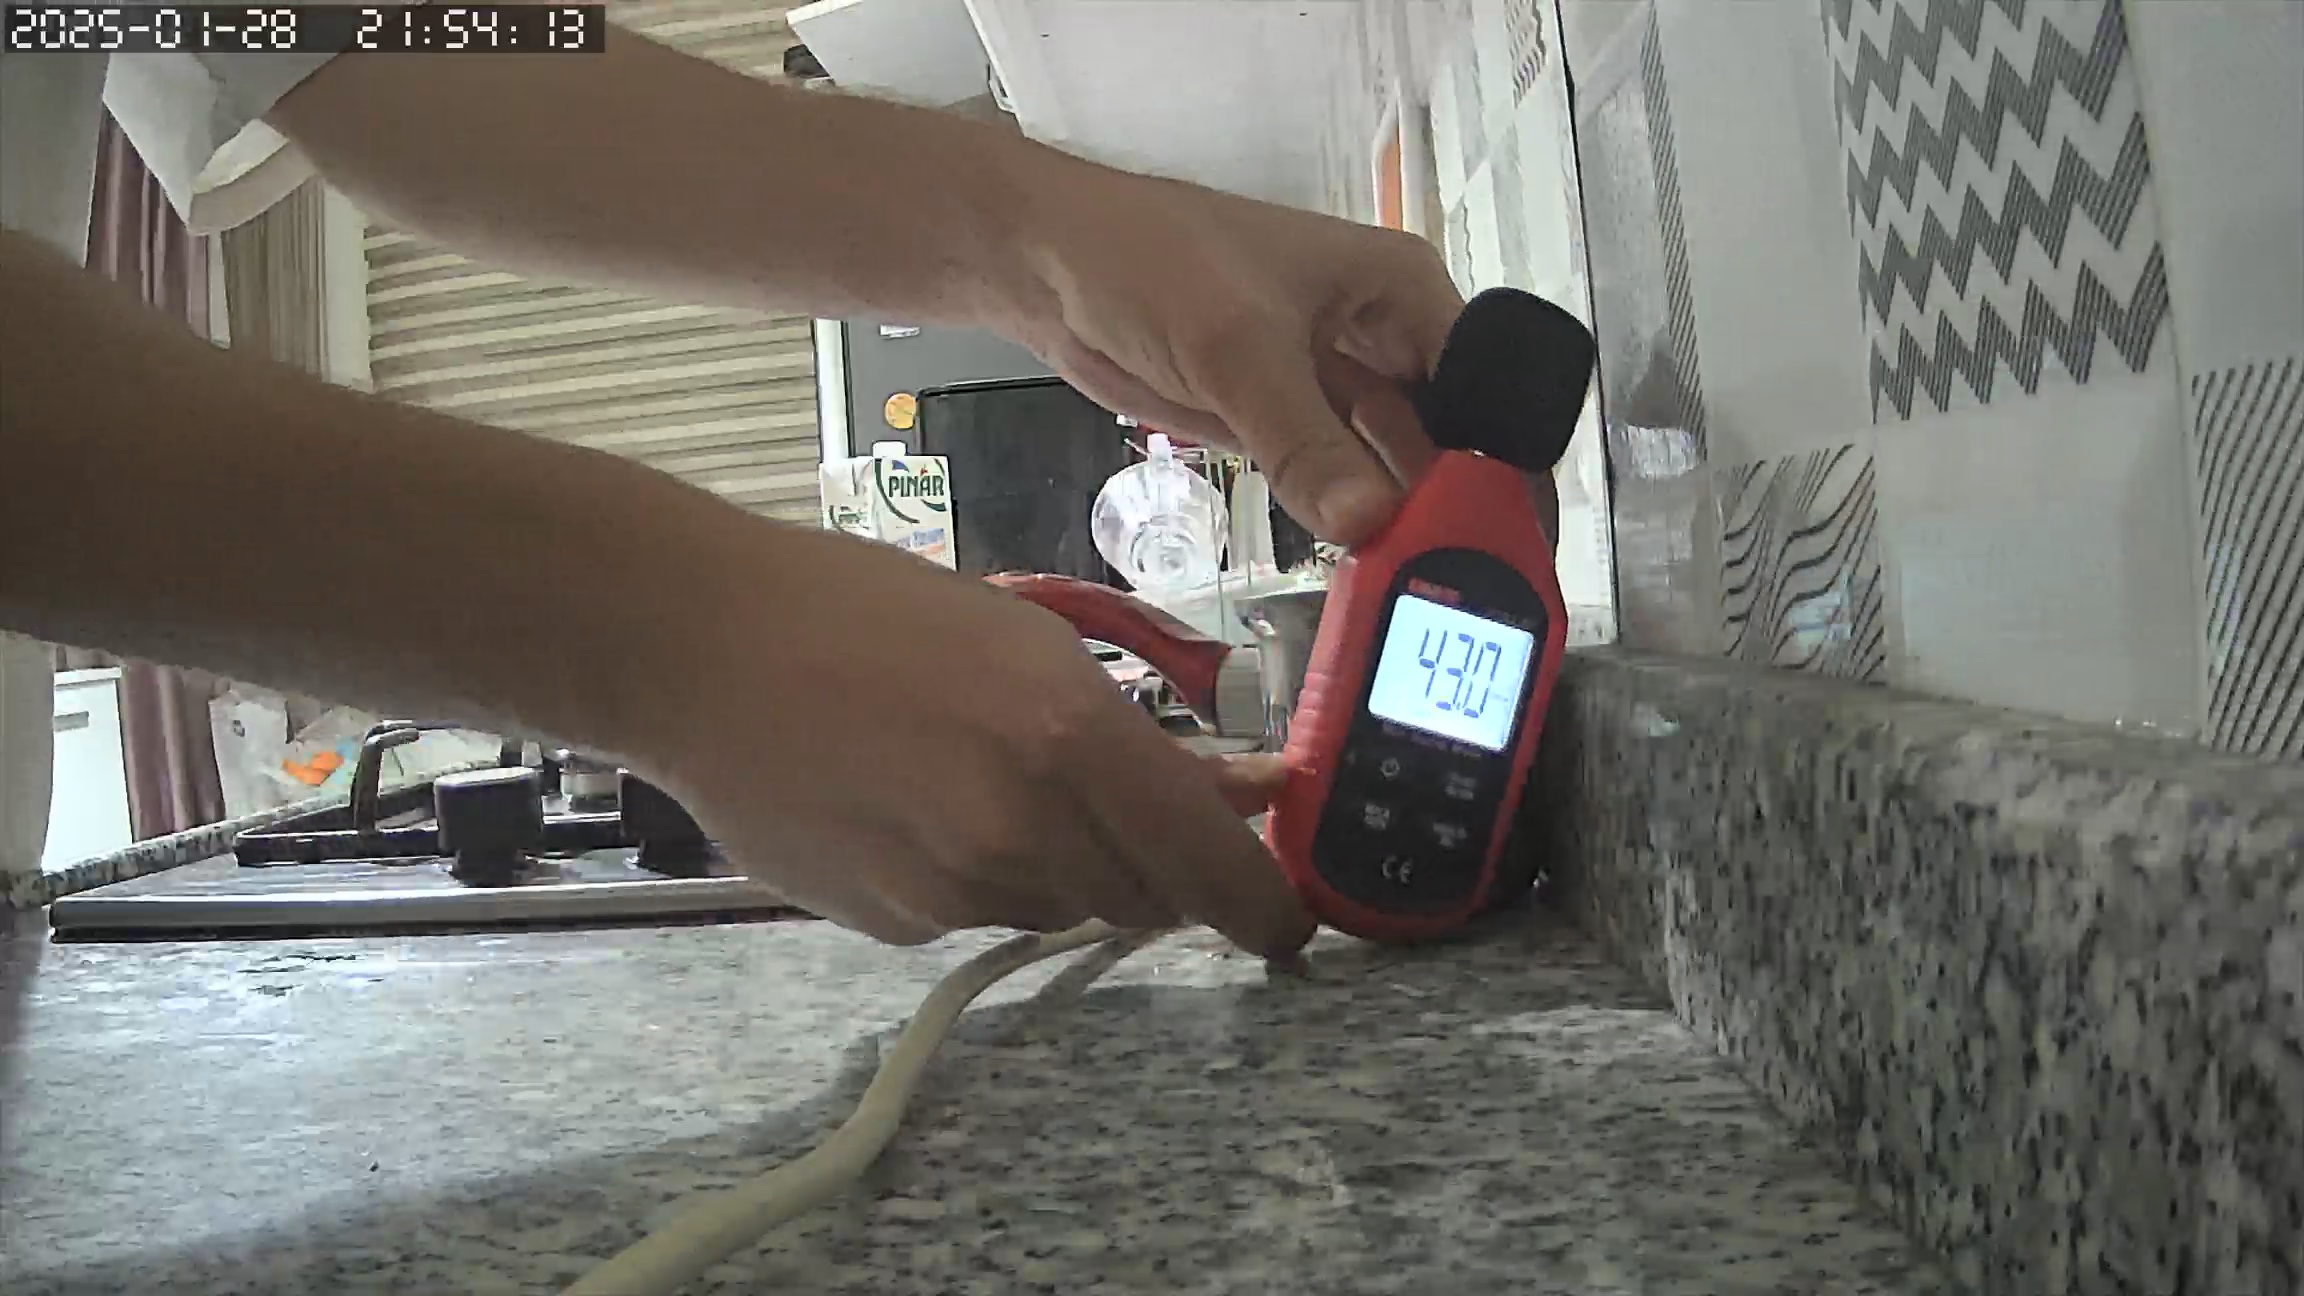screen: (1369, 593, 1537, 753)
